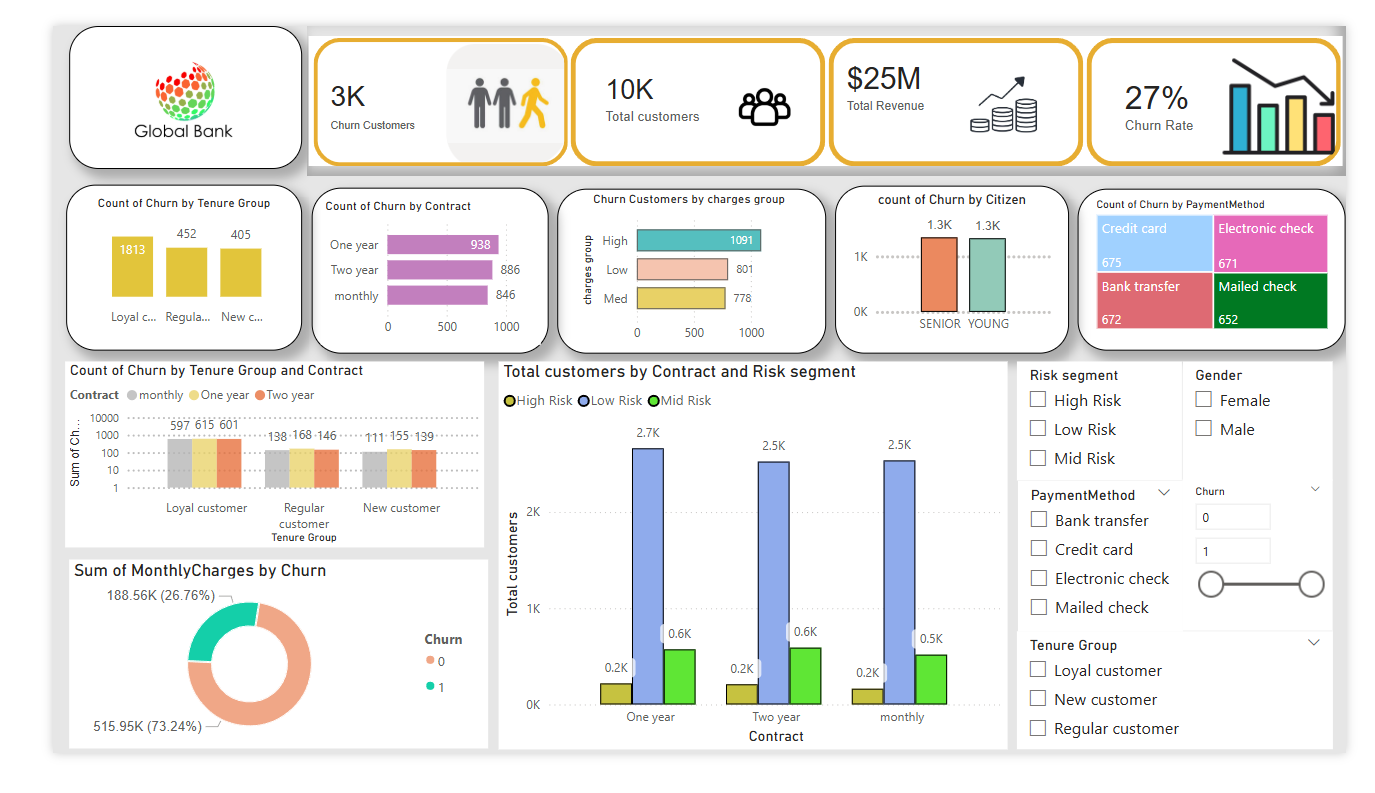

Layout of this report page (visuals, bound fields, positions):
{"tool":"powerbi","page":{"name":"Page 1","canvas":[1280,720],"ordinal":0},"visuals":[{"type":"shape","box":[498.8,161.5,266.8,163.5],"z":0},{"type":"barChart","fields":{"Category":["Bank_Churn_Classification_Datas.charges group"],"Y":["Bank_Churn_Classification_Datas.Churn Customers"]},"box":[518.2,163.5,223.9,158.4],"z":1000},{"type":"shape","box":[1014,161.5,265.8,160.5],"z":2000},{"type":"shape","box":[773.8,158.4,232,166.6],"z":3000},{"type":"shape","box":[16,0,231,142],"z":4000},{"type":"image","box":[25,10,210,124],"z":5000},{"type":"shape","box":[256.2,160.3,234.5,164.4],"z":6000},{"type":"cardVisual","fields":{"Data":["Bank_Churn_Classification_Datas.Churn Customers","Bank_Churn_Classification_Datas.Total customers","Bank_Churn_Classification_Datas.Total Revenue","Bank_Churn_Classification_Datas.Churn Rate"]},"box":[251,0,1029,149],"z":7000},{"type":"lineClusteredColumnComboChart","title":"count of Churn by Citizen","fields":{"Category":["Bank_Churn_Classification_Datas.SeniorCitizen"],"Y":["Sum(Bank_Churn_Classification_Datas.Churn)"]},"box":[787.1,163.5,205.5,149.2],"z":8000},{"type":"shape","box":[12.6,157.2,234.5,164.4],"z":9000},{"type":"donutChart","title":"Sum of MonthlyCharges by Churn","fields":{"Y":["Sum(Bank_Churn_Classification_Datas.MonthlyCharges)"],"Category":["Bank_Churn_Classification_Datas.Churn"]},"box":[16.4,528.5,415,187.1],"z":10000},{"type":"clusteredColumnChart","title":"Count of Churn by Tenure Group and Contract","fields":{"Category":["Bank_Churn_Classification_Datas.Tenure Group"],"Y":["Sum(Bank_Churn_Classification_Datas.Churn)"],"Series":["Bank_Churn_Classification_Datas.Contract"]},"box":[12.3,332.2,415,185],"z":11000},{"type":"lineClusteredColumnComboChart","fields":{"Category":["Bank_Churn_Classification_Datas.Contract"],"Series":["Bank_Churn_Classification_Datas.Risk segment"],"Y":["Bank_Churn_Classification_Datas.Total customers"]},"box":[440.5,332.2,504.9,383.3],"z":12000},{"type":"clusteredBarChart","title":"Count  of Churn by Contract","fields":{"Y":["Sum(Bank_Churn_Classification_Datas.Churn)"],"Category":["Bank_Churn_Classification_Datas.Contract"]},"box":[265.2,171.1,217.4,144.7],"z":13000},{"type":"clusteredColumnChart","title":"Count of Churn by Tenure Group","fields":{"Category":["Bank_Churn_Classification_Datas.Tenure Group"],"Y":["Sum(Bank_Churn_Classification_Datas.Churn)"]},"box":[25,168,210.2,134.8],"z":14000},{"type":"treemap","title":"Count of Churn by PaymentMethod","fields":{"Group":["Bank_Churn_Classification_Datas.PaymentMethod"],"Values":["Sum(Bank_Churn_Classification_Datas.Churn)"]},"box":[1027.8,169.8,239,134.8],"z":15000},{"type":"slicer","fields":{"Values":["Bank_Churn_Classification_Datas.Risk segment"]},"box":[953.7,332.2,164.6,117.5],"z":16000},{"type":"slicer","fields":{"Values":["Bank_Churn_Classification_Datas.Gender"]},"box":[1118.2,332.2,149.2,117.5],"z":17000},{"type":"slicer","fields":{"Values":["Bank_Churn_Classification_Datas.PaymentMethod"]},"box":[954.7,449.7,164.6,150.3],"z":18000},{"type":"slicer","fields":{"Values":["Bank_Churn_Classification_Datas.Churn"]},"box":[1118.2,448.7,149.2,150.3],"z":19000},{"type":"slicer","fields":{"Values":["Bank_Churn_Classification_Datas.Tenure Group"]},"box":[953.7,599,313.8,116.5],"z":20000}]}

Visuals, with their boxes in screenshot pixels (x1, y1, x2, y2), scaled from the page's 1280x720 canvas onto the 1375x793 screenshot:
shape: <bbox>536, 178, 822, 358</bbox>
barChart - Bank_Churn_Classification_Datas.charges group x Bank_Churn_Classification_Datas.Churn Customers: <bbox>557, 180, 797, 355</bbox>
shape: <bbox>1089, 178, 1374, 355</bbox>
shape: <bbox>831, 174, 1080, 358</bbox>
shape: <bbox>17, 0, 265, 156</bbox>
image: <bbox>27, 11, 252, 148</bbox>
shape: <bbox>275, 177, 527, 358</bbox>
cardVisual - Bank_Churn_Classification_Datas.Churn Customers x Bank_Churn_Classification_Datas.Total customers: <bbox>270, 0, 1374, 164</bbox>
"count of Churn by Citizen" lineClusteredColumnComboChart: <bbox>846, 180, 1066, 344</bbox>
shape: <bbox>14, 173, 265, 354</bbox>
"Sum of MonthlyCharges by Churn" donutChart: <bbox>18, 582, 463, 788</bbox>
"Count of Churn by Tenure Group and Contract" clusteredColumnChart: <bbox>13, 366, 459, 570</bbox>
lineClusteredColumnComboChart - Bank_Churn_Classification_Datas.Contract x Bank_Churn_Classification_Datas.Risk segment: <bbox>473, 366, 1016, 788</bbox>
"Count  of Churn by Contract" clusteredBarChart: <bbox>285, 188, 518, 348</bbox>
"Count of Churn by Tenure Group" clusteredColumnChart: <bbox>27, 185, 253, 334</bbox>
"Count of Churn by PaymentMethod" treemap: <bbox>1104, 187, 1361, 335</bbox>
slicer - Bank_Churn_Classification_Datas.Risk segment: <bbox>1024, 366, 1201, 495</bbox>
slicer - Bank_Churn_Classification_Datas.Gender: <bbox>1201, 366, 1361, 495</bbox>
slicer - Bank_Churn_Classification_Datas.PaymentMethod: <bbox>1026, 495, 1202, 661</bbox>
slicer - Bank_Churn_Classification_Datas.Churn: <bbox>1201, 494, 1361, 660</bbox>
slicer - Bank_Churn_Classification_Datas.Tenure Group: <bbox>1024, 660, 1362, 788</bbox>
